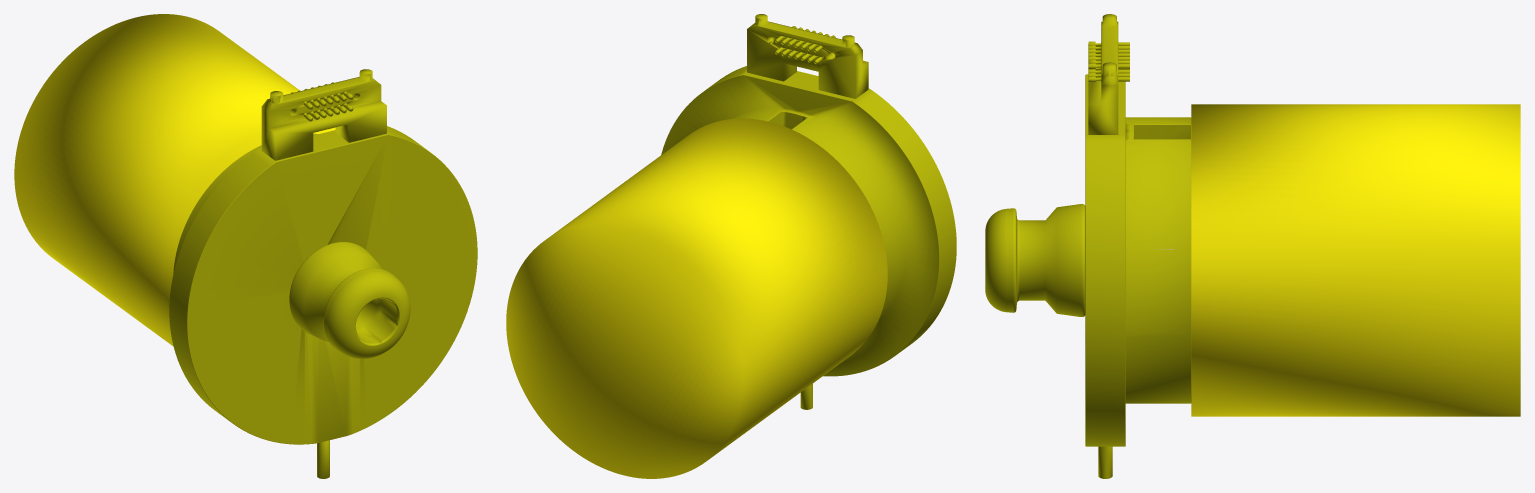
The model's file is oldModule7.dae.
3 renders of one model, left to right at view 1: azimuth 30°, elevation 25°; view 2: azimuth 150°, elevation 25°; view 3: azimuth 270°, elevation 25°, orthographic. The views are drawn at different scales.
Visible parts, largest first — view 1: transform1; view 2: transform1; view 3: transform1.
Part boxes in pixels (x1=…): transform1: x1=14, y1=14, x2=477, y2=478; transform1: x1=506, y1=14, x2=956, y2=478; transform1: x1=985, y1=14, x2=1520, y2=478.
Size of the model in its own units: 0.13 by 0.1675 by 0.187.
Materials: 1 (1 with a texture image).
